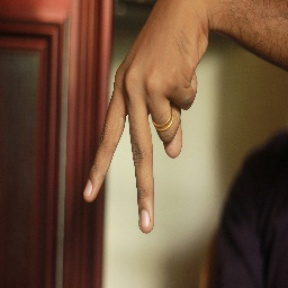Y: (82, 57, 207, 237)
